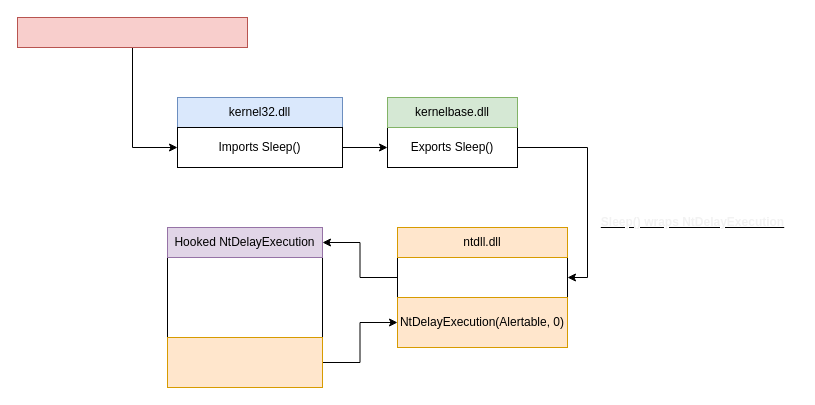
This 815x405 diagram has some shape labels left out. The shapes that lost their labels are listed below. From the top down, each one's centre as x and y in pixels, then its label:
the point at 132,32: Malware.exe calls Sleep()
the point at 244,297: Tampered code (MessageBoxA taunt)
the point at 482,277: jmp hook
the point at 244,362: jmp ntdll!NtDelayExecution
